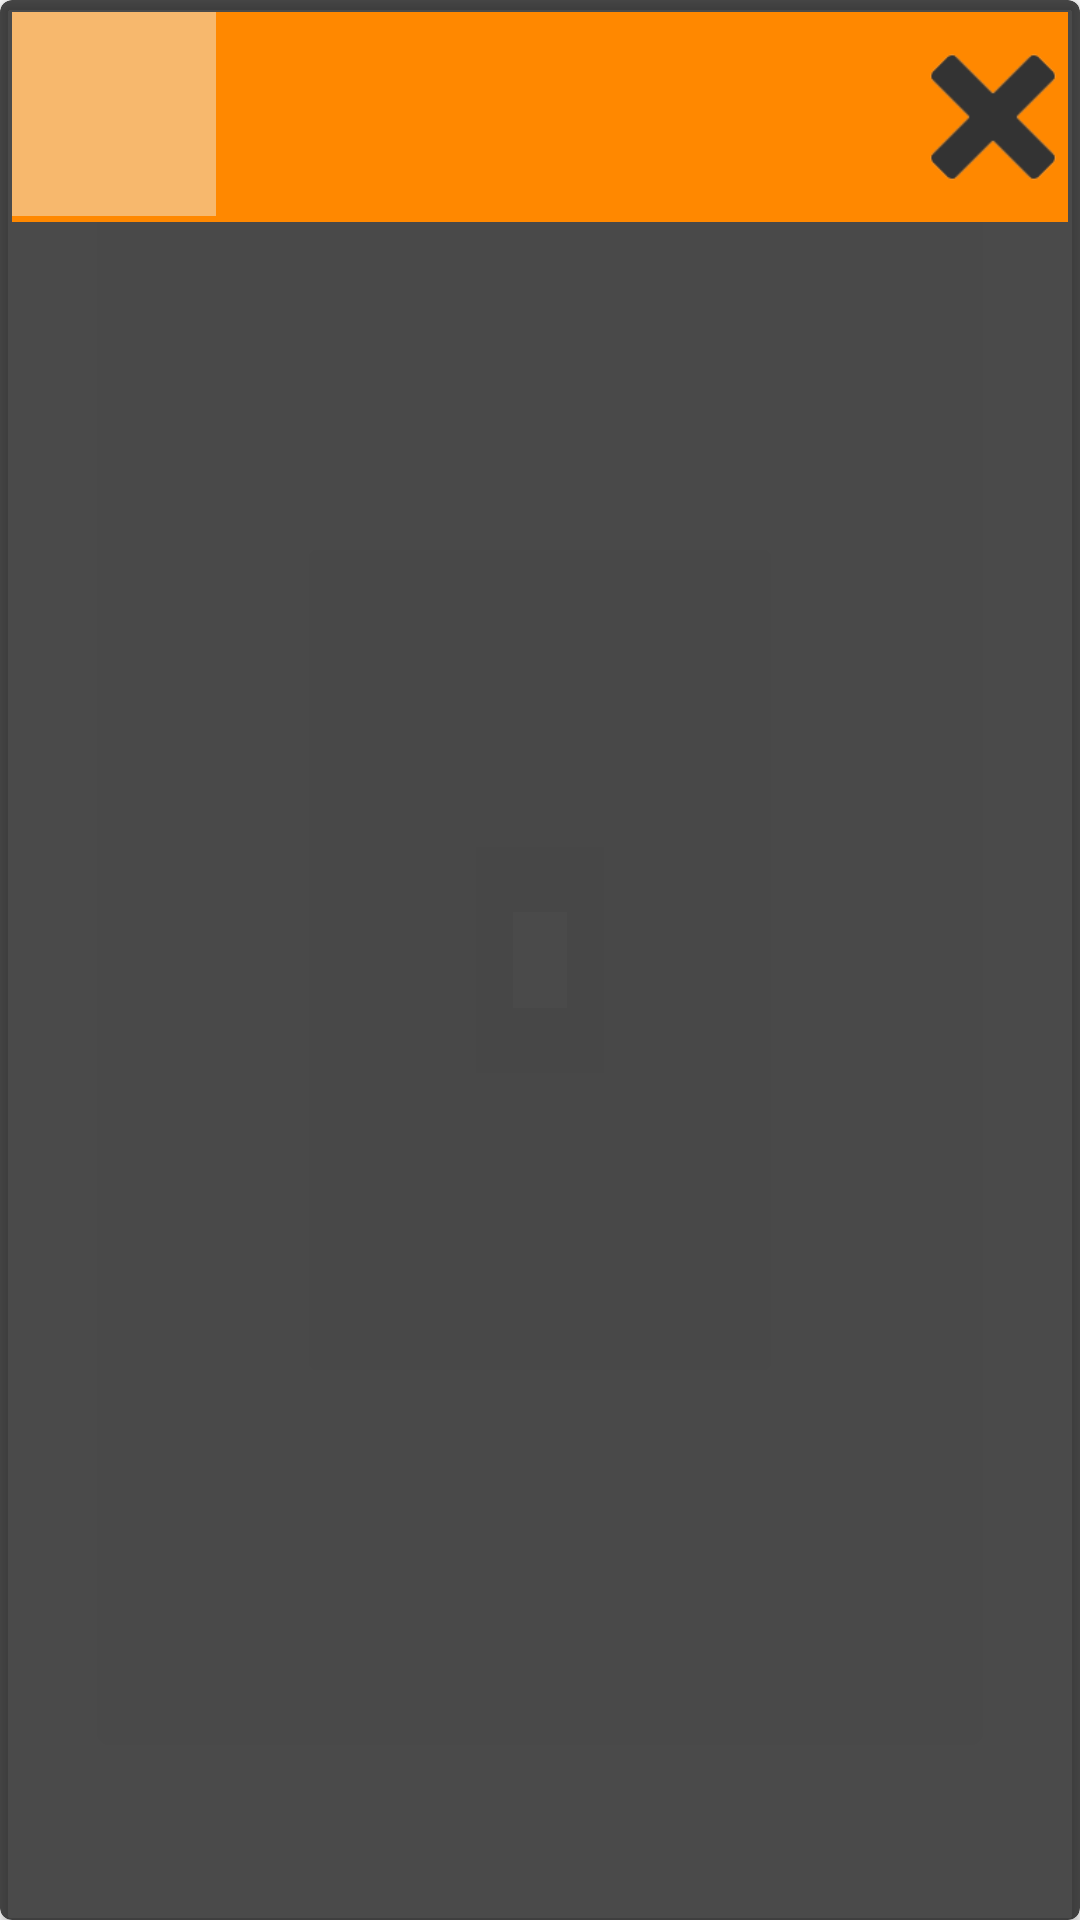

Icons on this 1080 × 1920 Android screen, each with the point to tap as (x=x, y=y):
delete: (x=993, y=117)
